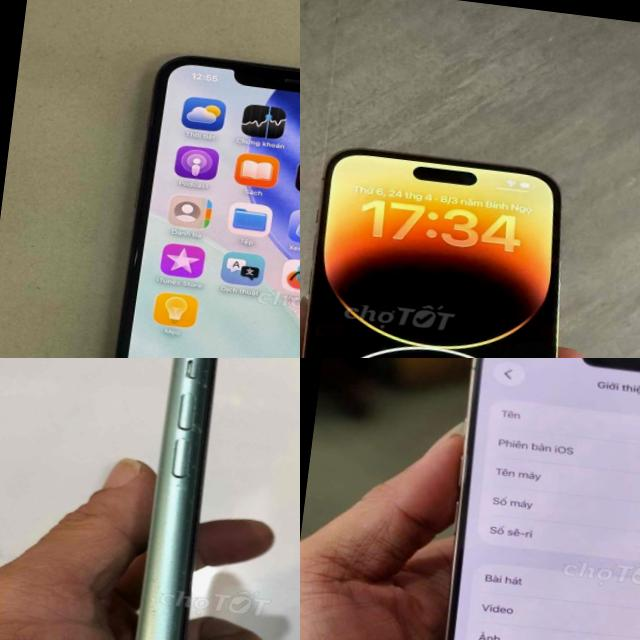scratch: (162, 358, 218, 538), (138, 574, 173, 640), (176, 568, 194, 589)
